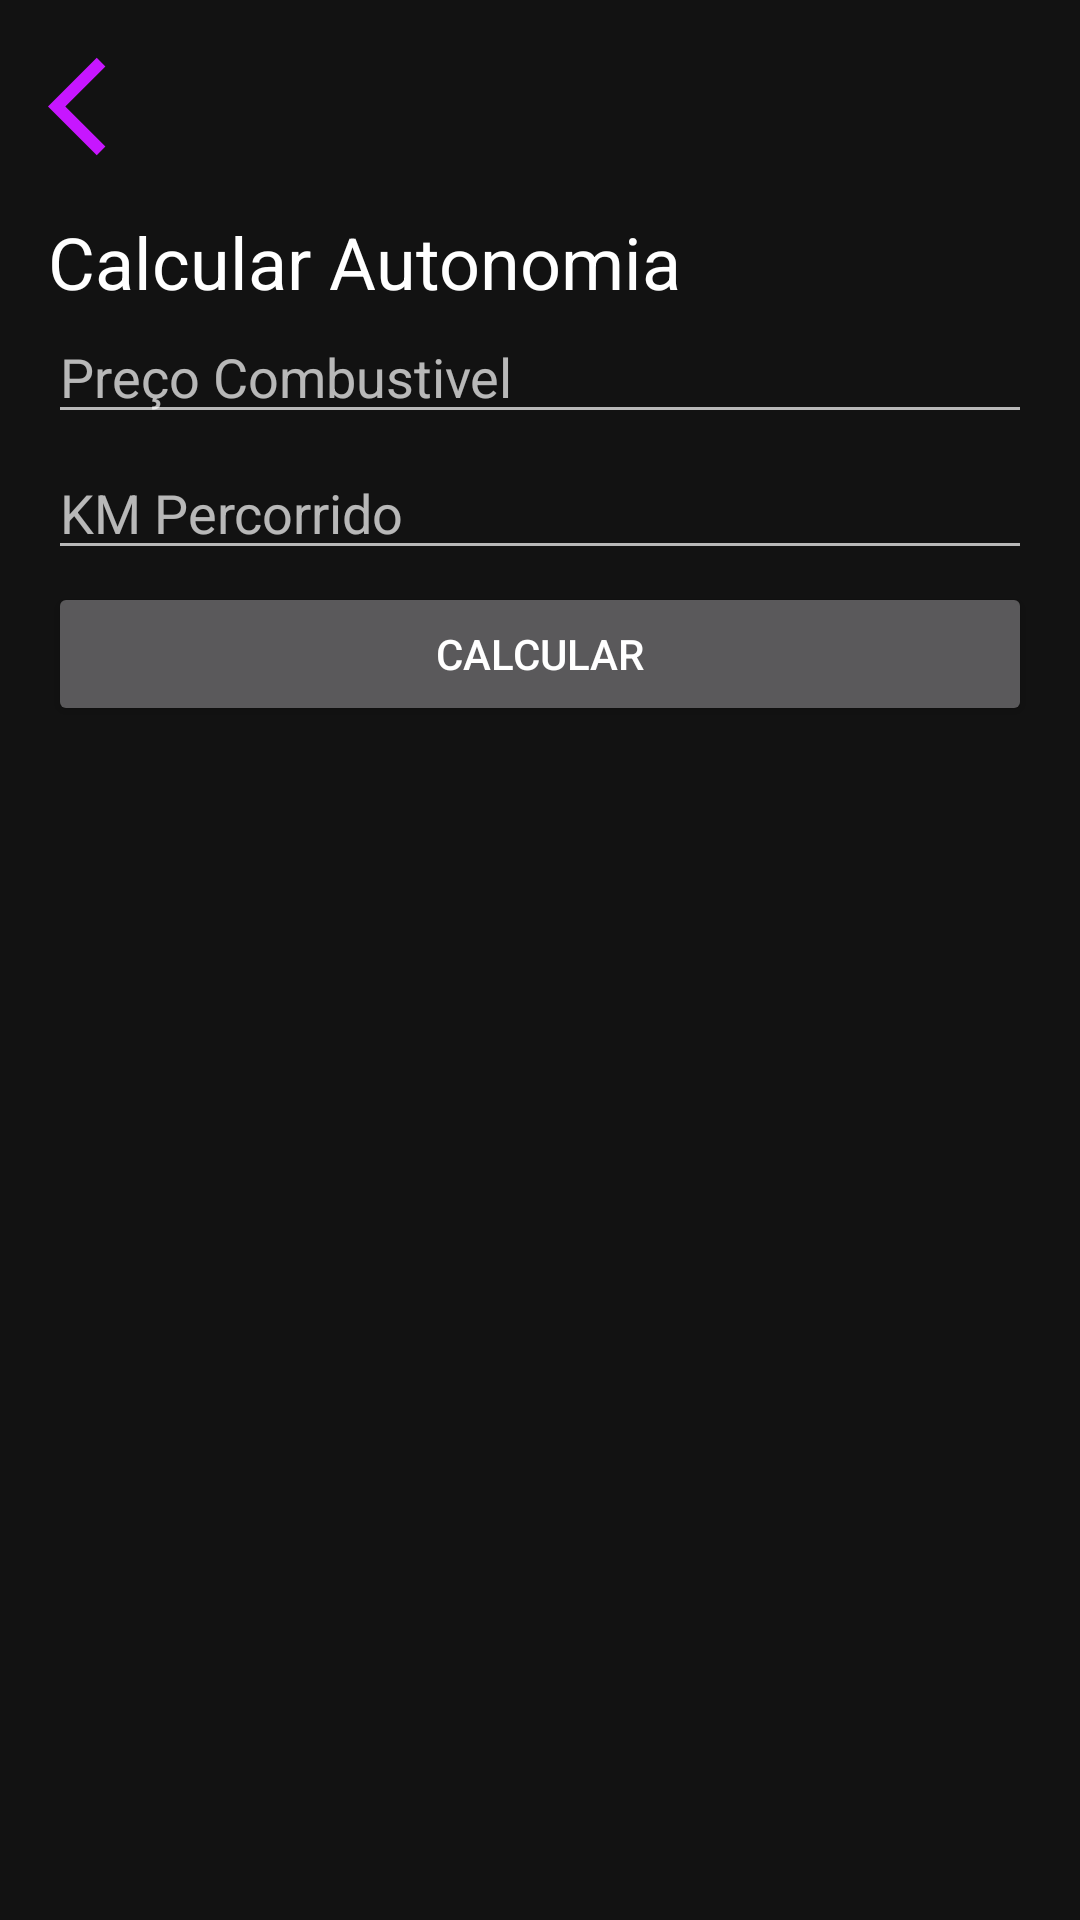

Screen size 1080×1920. Icon name, then its center in pixels as (x,y):
backward: (77,106)
